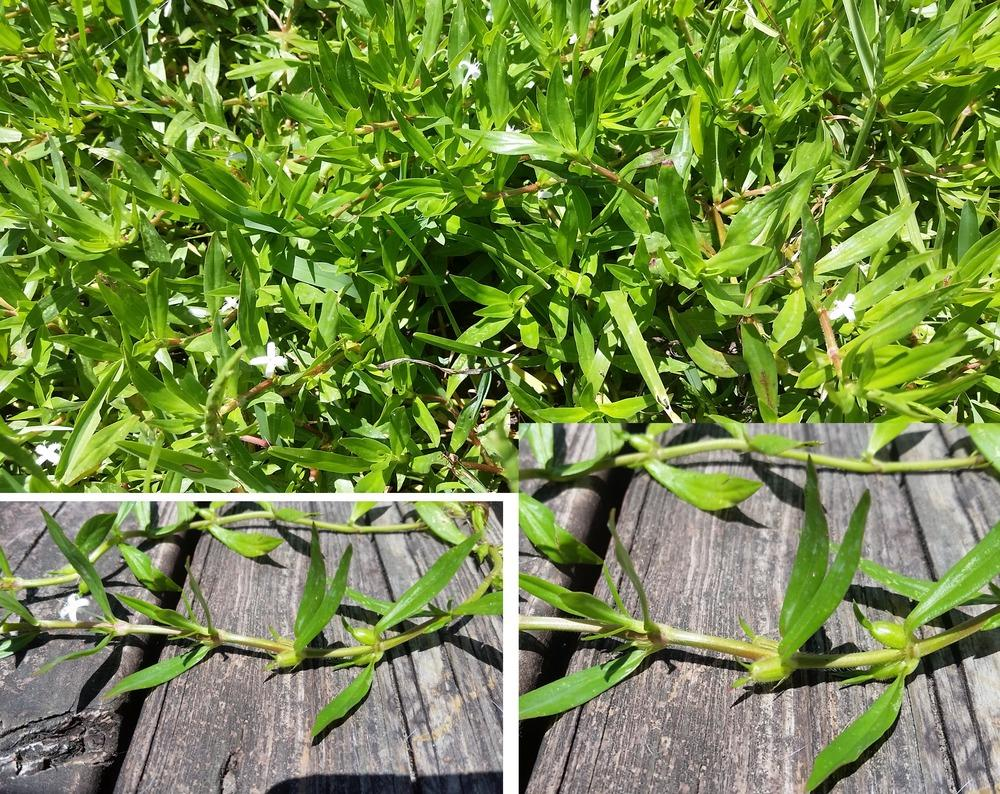crabgrass: (64, 103, 931, 454), (560, 511, 992, 731), (23, 518, 454, 733)
